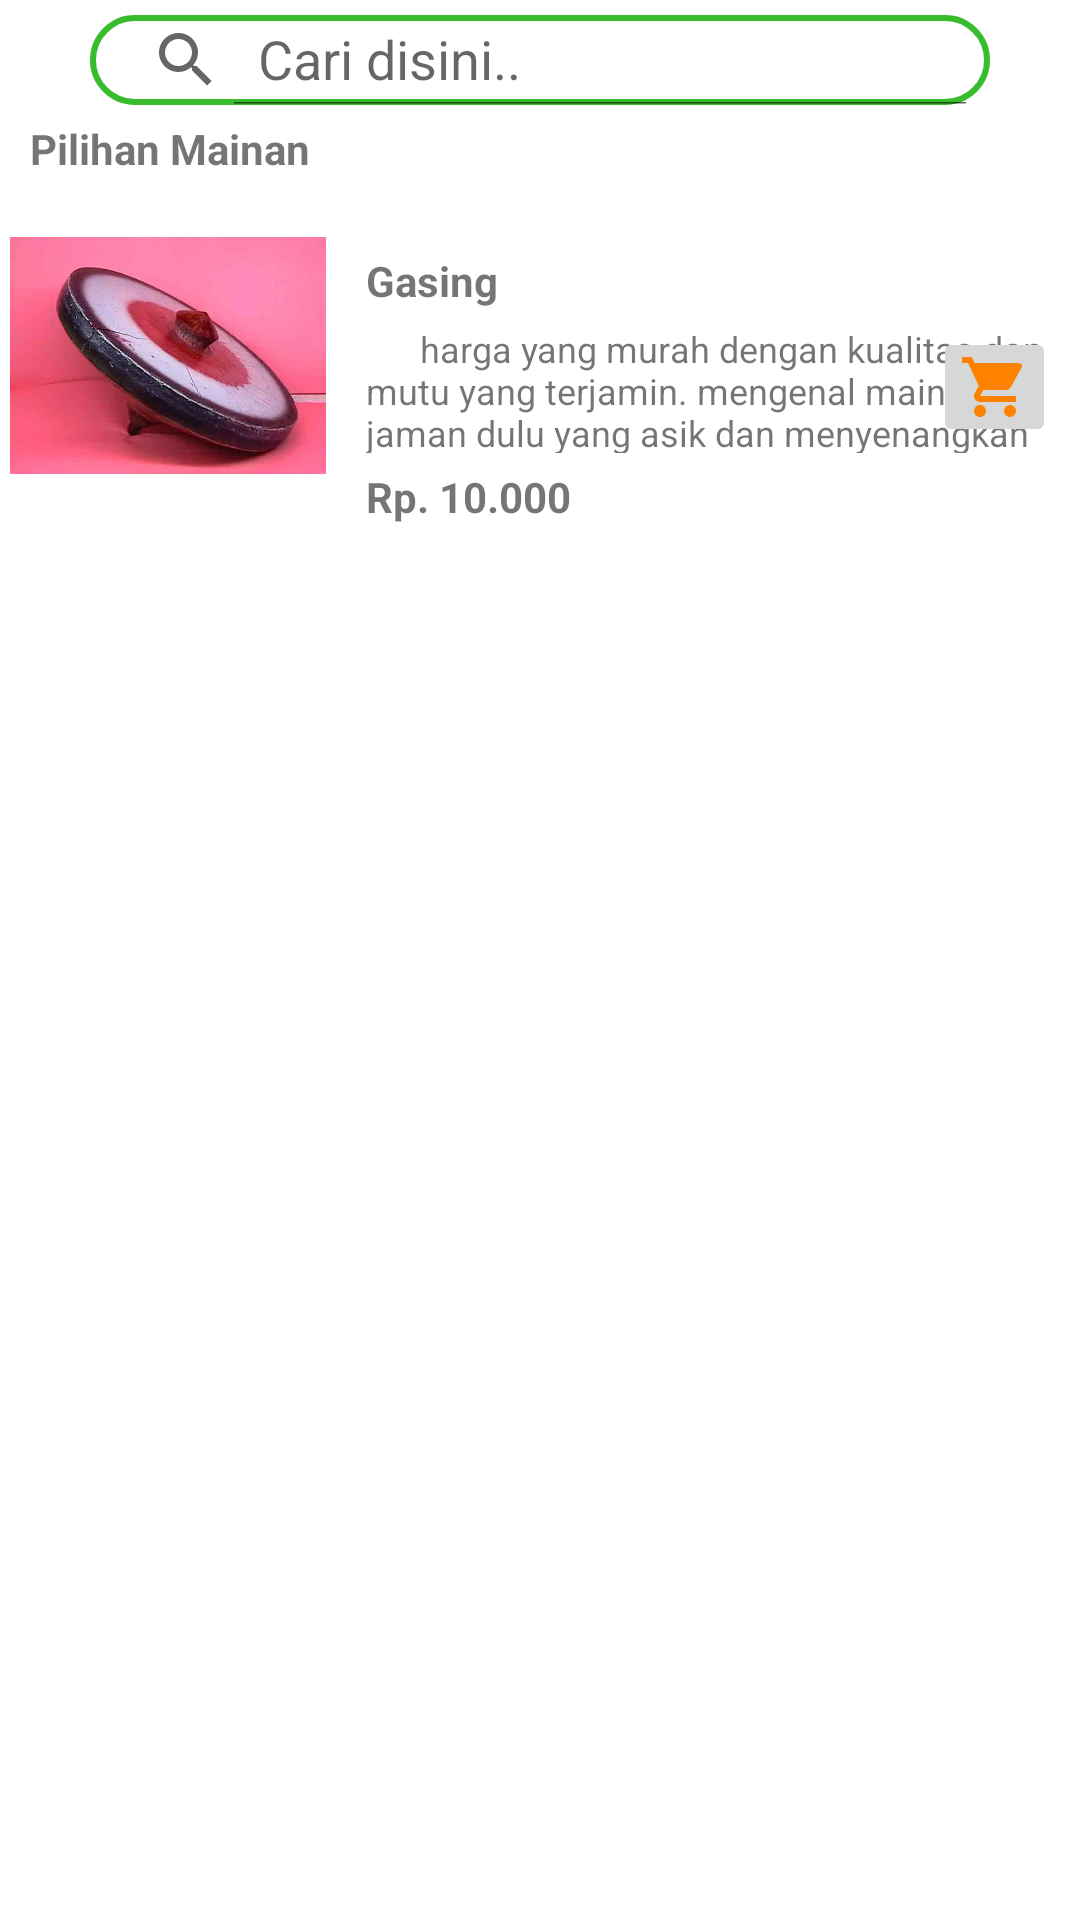

Where to tap for icons on this 1080×1920 app screen, as point (x, y):
keranjang: point (988, 391)
